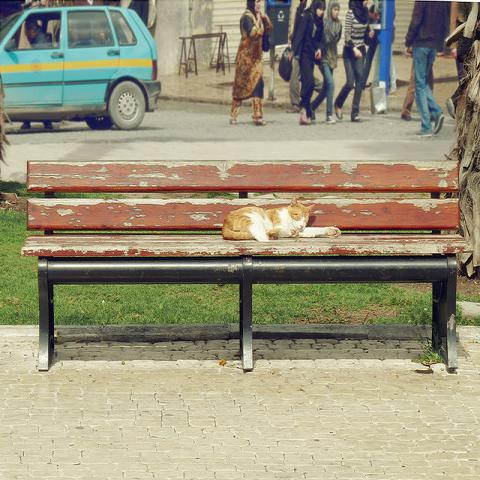car: (2, 8, 161, 134)
